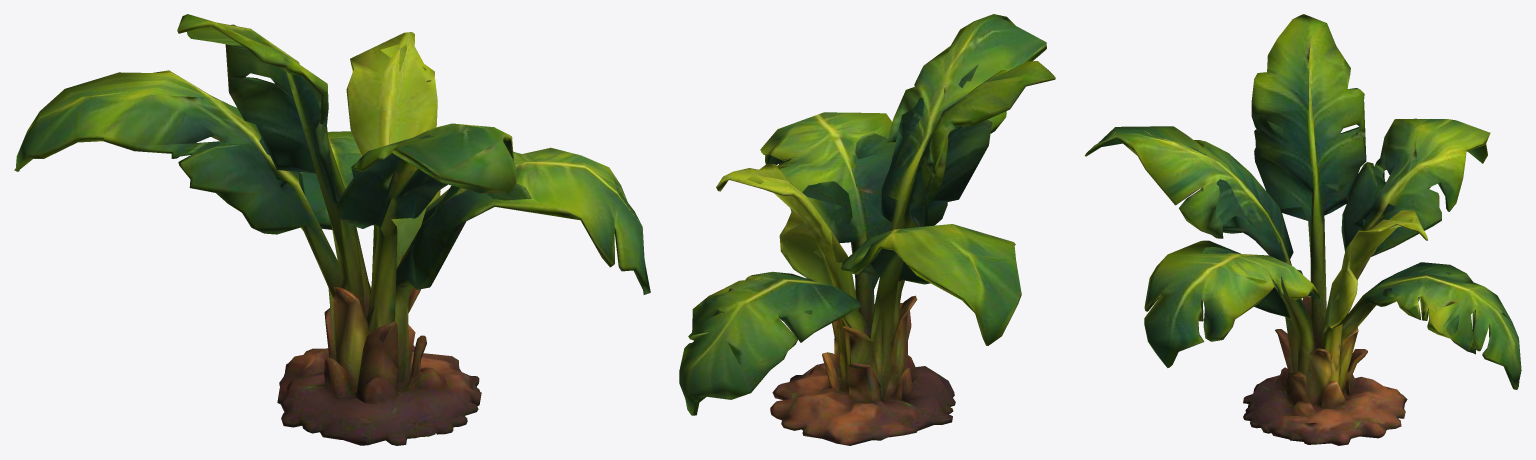
File: prop-broadleaf-plant-v3-desktop.glb
The picture shows the model from 3 angles, left to right: view 1: azimuth 30°, elevation 25°; view 2: azimuth 150°, elevation 25°; view 3: azimuth 270°, elevation 25°; orthographic projection. The views are drawn at different scales.
Parts seen in each view (by area): view 1: tripo_node_e58daf59-ea4f-4d6d-a5e6-bb7f7ce6bf37; view 2: tripo_node_e58daf59-ea4f-4d6d-a5e6-bb7f7ce6bf37; view 3: tripo_node_e58daf59-ea4f-4d6d-a5e6-bb7f7ce6bf37.
Part boxes in pixels (x1,y1,x2,y2): tripo_node_e58daf59-ea4f-4d6d-a5e6-bb7f7ce6bf37: (14,14,650,445); tripo_node_e58daf59-ea4f-4d6d-a5e6-bb7f7ce6bf37: (679,14,1055,445); tripo_node_e58daf59-ea4f-4d6d-a5e6-bb7f7ce6bf37: (1084,14,1521,445).
Size of the model in its own units: 0.8826 by 0.8219 by 0.998.
Materials: 1 (1 with a texture image).
